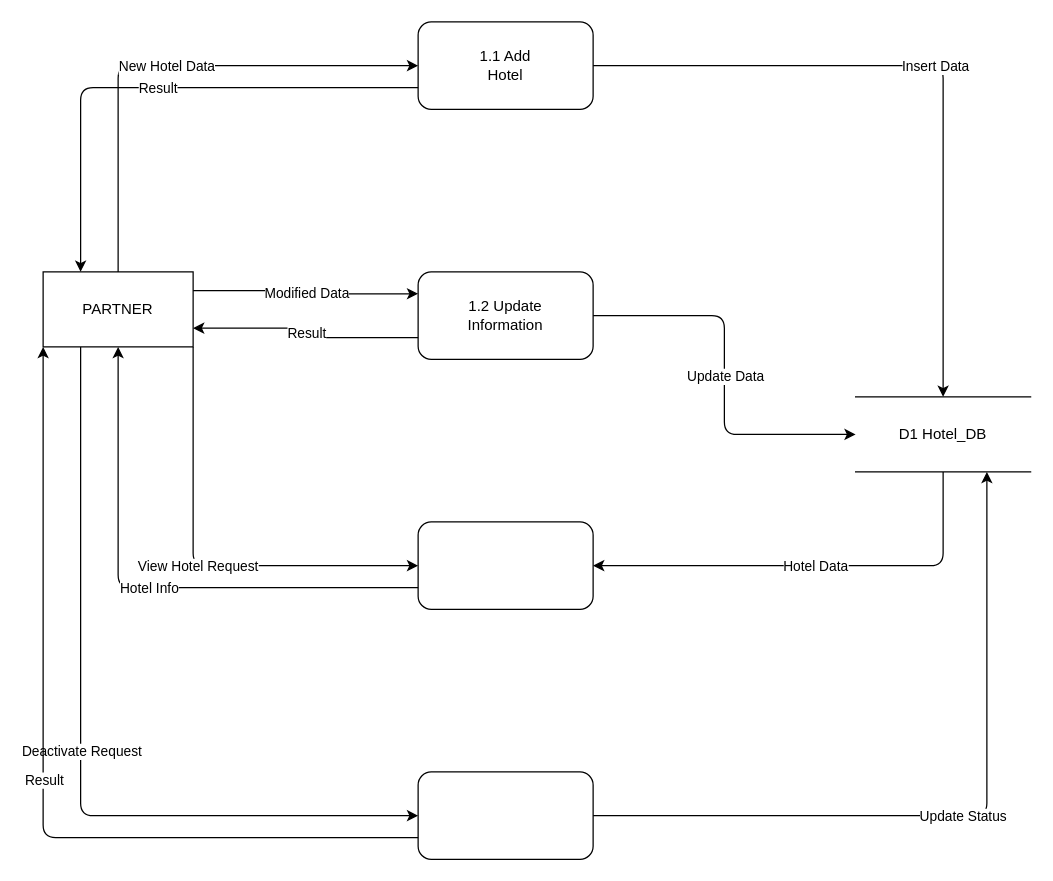
The diagram is 1053 pixels wide and 881 high, and some of its shapes have lost their labels. The centre of each missing label's shape, as x and y in pixels:
"1.3 View/Get Hotel Details" belongs at pixel 505 565.
"1.4 Activate/ Deactivate Hotel" belongs at pixel 505 815.
